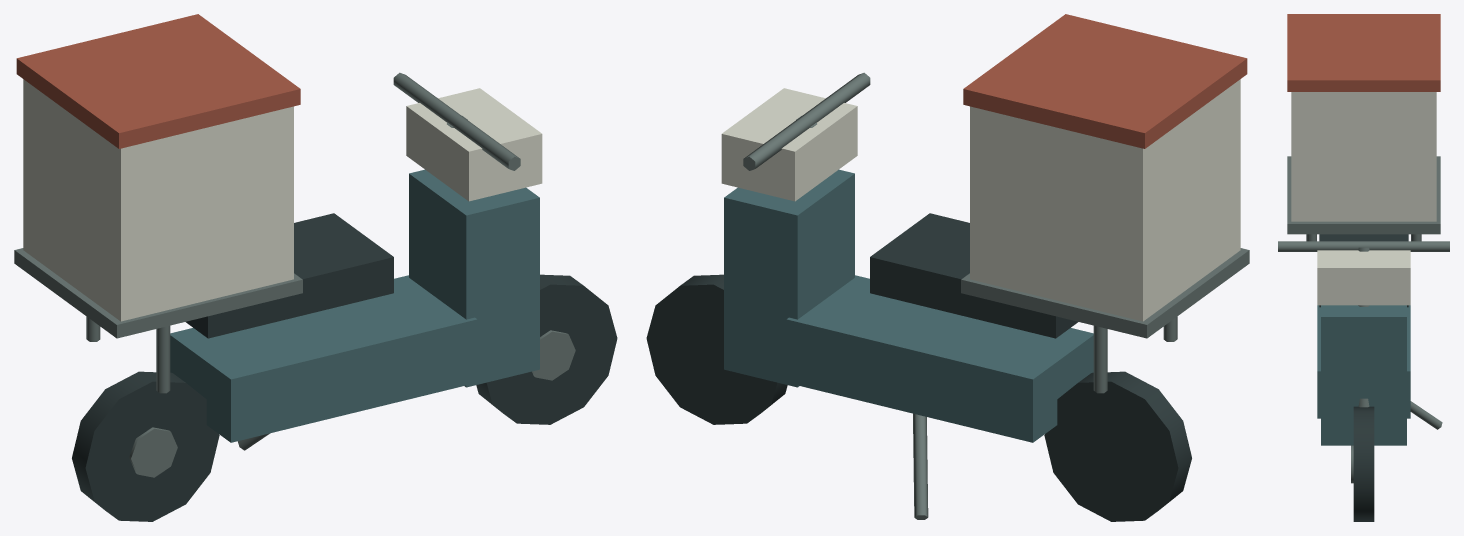
Rendered from legacy-104.glb.
The picture shows the model from 3 angles, left to right: view 1: azimuth 30°, elevation 25°; view 2: azimuth 150°, elevation 25°; view 3: azimuth 270°, elevation 25°; orthographic projection. The views are drawn at different scales.
Parts seen in each view (by area): view 1: part-11, part-5, part-12, part-7, part-1, part-3, part-6, part-10, part-15, part-9, part-2, part-4 (+1 smaller); view 2: part-11, part-5, part-12, part-7, part-1, part-3, part-6, part-10, part-15, part-9, part-16, part-13; view 3: part-11, part-12, part-7, part-10, part-15, part-3, part-9, part-5, part-6, part-16.
Boxes of the visible parts, bbox=[...] form: part-11: bbox=[23, 79, 293, 321]; part-5: bbox=[170, 275, 477, 442]; part-12: bbox=[16, 14, 300, 148]; part-7: bbox=[409, 169, 539, 387]; part-1: bbox=[72, 371, 219, 521]; part-3: bbox=[476, 274, 617, 424]; part-6: bbox=[186, 213, 393, 338]; part-10: bbox=[406, 88, 542, 201]; part-15: bbox=[14, 248, 302, 338]; part-9: bbox=[393, 72, 520, 170]; part-2: bbox=[129, 427, 177, 477]; part-4: bbox=[532, 330, 575, 380]; part-11: bbox=[970, 79, 1240, 321]; part-5: bbox=[786, 275, 1093, 442]; part-12: bbox=[963, 14, 1247, 148]; part-7: bbox=[724, 169, 854, 387]; part-1: bbox=[1044, 371, 1191, 521]; part-3: bbox=[646, 274, 787, 424]; part-6: bbox=[870, 213, 1077, 338]; part-10: bbox=[721, 88, 857, 201]; part-15: bbox=[961, 248, 1249, 338]; part-9: bbox=[743, 72, 870, 170]; part-16: bbox=[913, 413, 928, 519]; part-13: bbox=[1093, 325, 1107, 393]; part-11: bbox=[1291, 92, 1436, 221]; part-12: bbox=[1287, 14, 1440, 91]; part-7: bbox=[1321, 305, 1406, 445]; part-10: bbox=[1317, 250, 1410, 305]; part-15: bbox=[1287, 156, 1440, 234]; part-3: bbox=[1353, 406, 1374, 521]; part-9: bbox=[1278, 241, 1449, 251]; part-5: bbox=[1317, 305, 1410, 418]; part-6: bbox=[1319, 234, 1408, 307]; part-16: bbox=[1410, 401, 1442, 429].
Size of the model in its own units: 1.26 by 0.9817 by 0.46.
